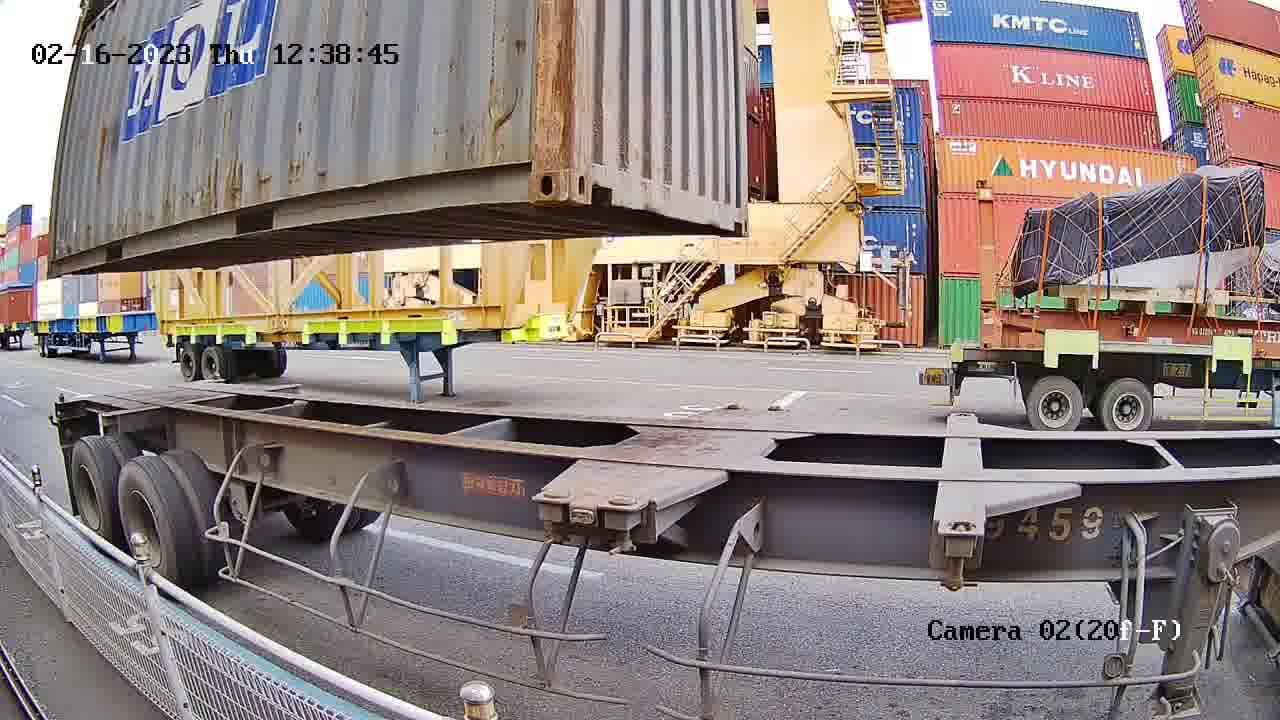Chassis: (527, 403, 756, 508), (597, 405, 797, 507)
Cone: (604, 493, 647, 559), (536, 486, 570, 543)
Hole_L: (571, 129, 628, 208)
Hole_R: (489, 129, 570, 202), (726, 192, 749, 236)
Tire: (117, 459, 182, 590), (70, 442, 115, 543)
